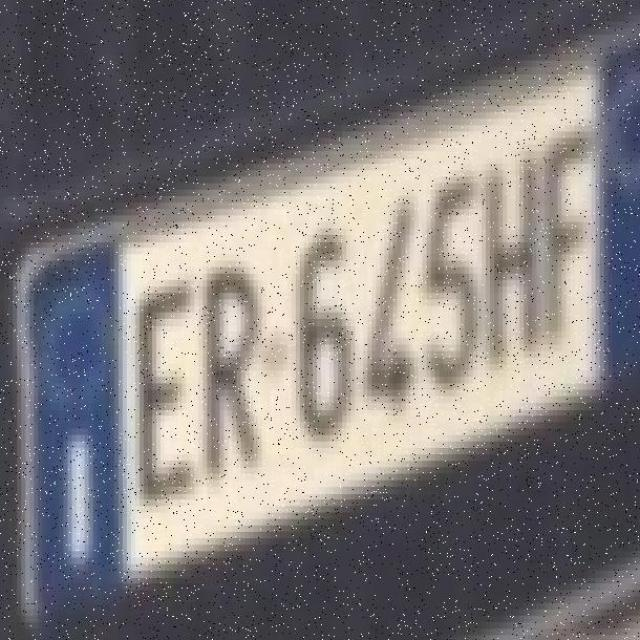LicensePlate: (12, 14, 632, 616)
